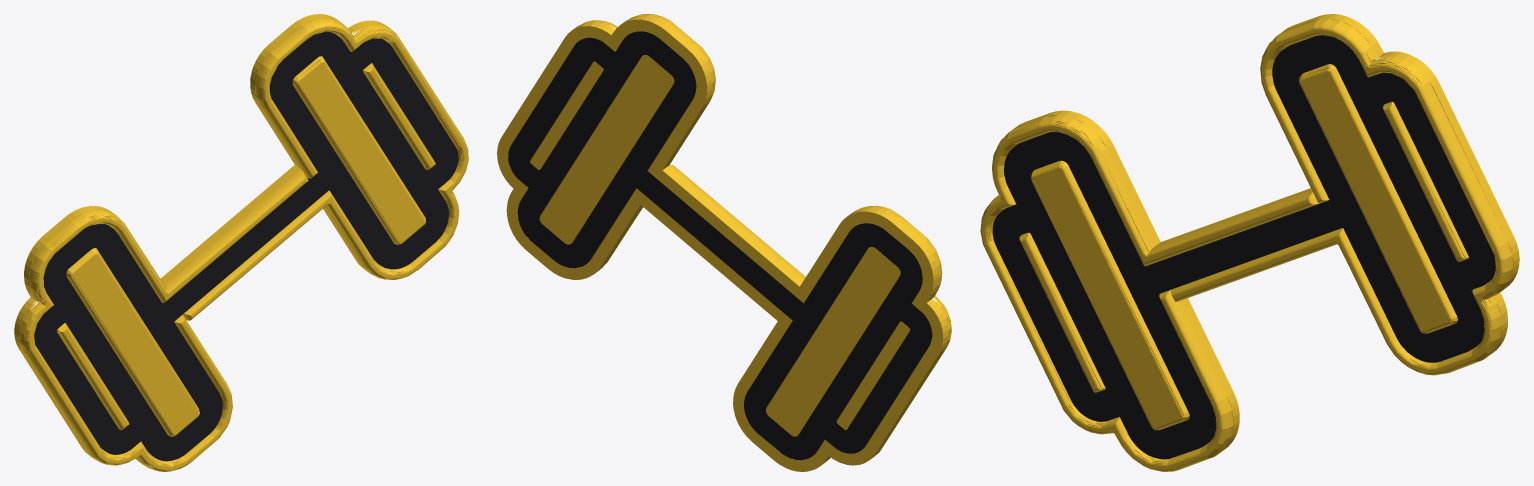
Rendered from workouts_t3.glb.
3 renders of one model, left to right at view 1: azimuth 30°, elevation 25°; view 2: azimuth 150°, elevation 25°; view 3: azimuth 330°, elevation 25°, orthographic. The views are drawn at different scales.
Parts seen in each view (by area): view 1: mark, mark_channel; view 2: mark, mark_channel; view 3: mark, mark_channel.
Boxes of the visible parts, left/top/right/bottom form: mark: left=14, top=14, right=468, bottom=471; mark_channel: left=34, top=31, right=458, bottom=461; mark: left=497, top=14, right=951, bottom=471; mark_channel: left=508, top=31, right=932, bottom=460; mark: left=980, top=14, right=1519, bottom=471; mark_channel: left=992, top=35, right=1495, bottom=459.
Size of the model in its own units: 0.5292 by 0.4697 by 0.024.
